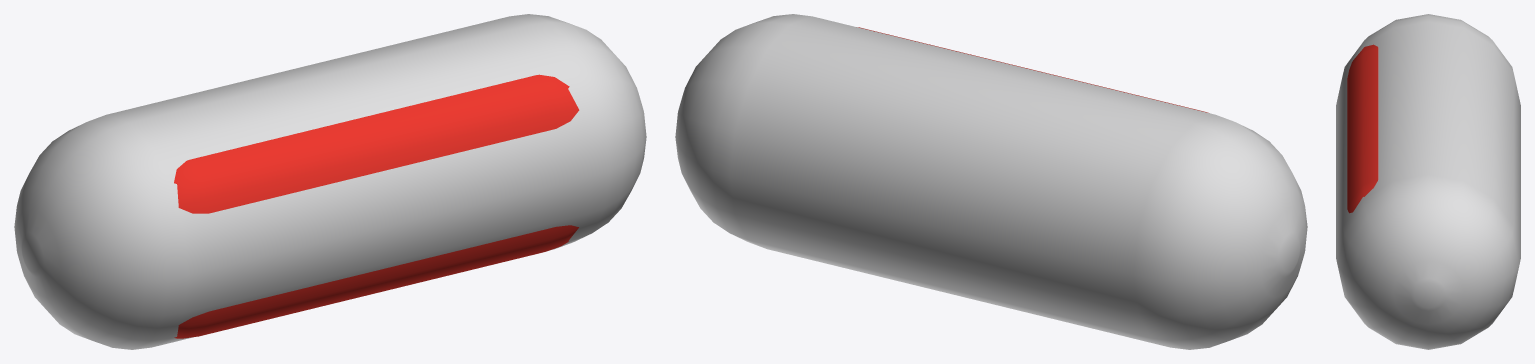
The model's file is cateye.glb.
The picture shows the model from 3 angles, left to right: view 1: azimuth 30°, elevation 25°; view 2: azimuth 150°, elevation 25°; view 3: azimuth 270°, elevation 25°; orthographic projection. The views are drawn at different scales.
Parts seen in each view (by area): view 1: lod0; view 2: lod0; view 3: lod0.
Part boxes in pixels (bbox=[...]): lod0: bbox=[14, 14, 646, 349]; lod0: bbox=[675, 14, 1307, 349]; lod0: bbox=[1336, 14, 1520, 349].
Size of what is drawn, in the model's own units: 0.1278 by 0.044 by 0.044.
